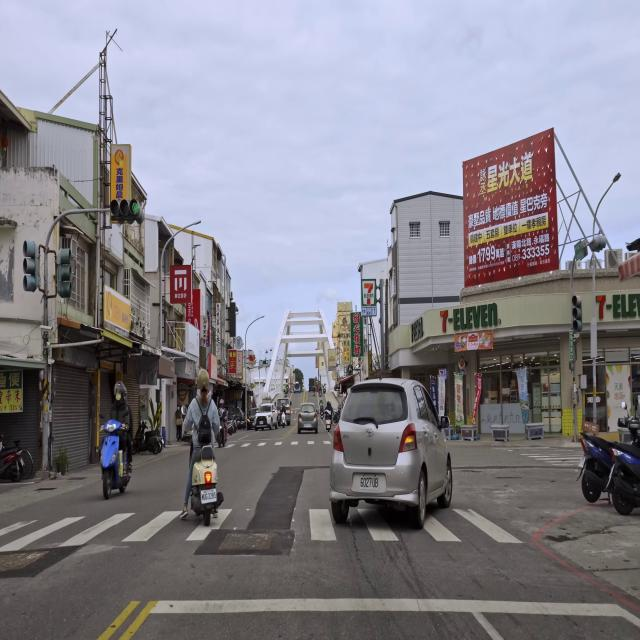green light: (110, 200, 139, 217)
